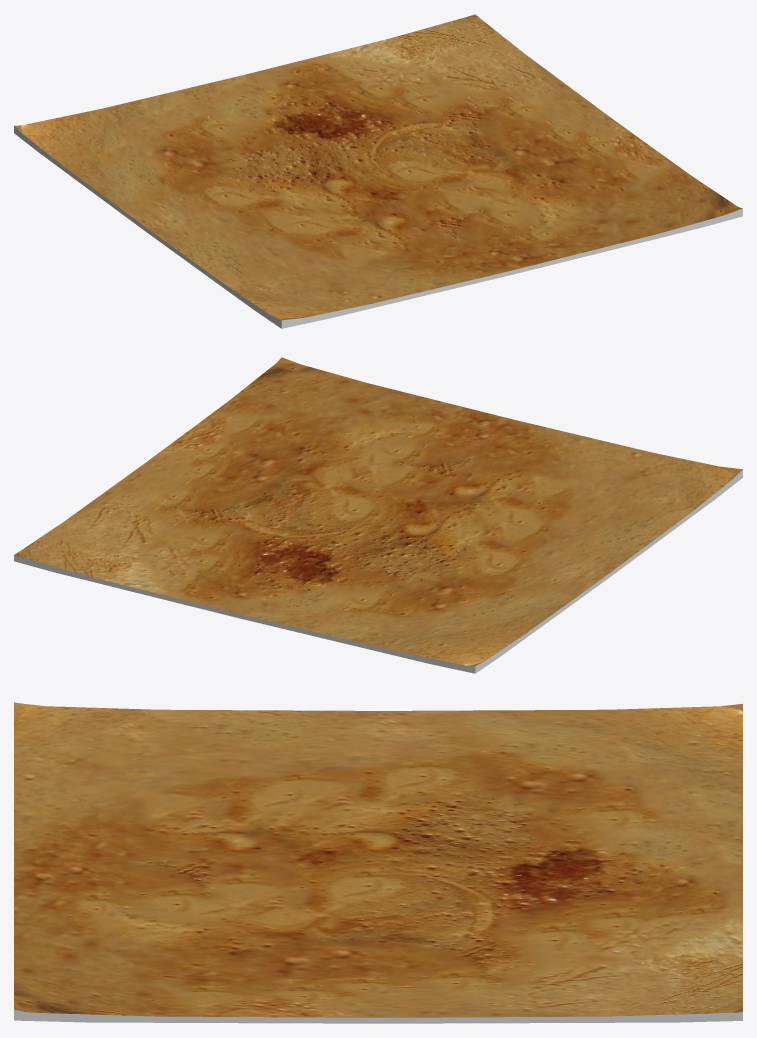
The model's file is rec9.gltf.
3 renders of one model, top to bottom at view 1: azimuth 30°, elevation 25°; view 2: azimuth 150°, elevation 25°; view 3: azimuth 270°, elevation 25°, orthographic. The views are drawn at different scales.
Parts seen in each view (by area): view 1: 평면; view 2: 평면; view 3: 평면.
Part boxes in pixels (x1,y1,x2,y2): 평면: (14, 14, 742, 328); 평면: (14, 357, 742, 673); 평면: (14, 702, 742, 1023).
Bounding box in the file's own units: 0.7997 × 0.0199 × 0.8035.
1 material, 1 textured.
